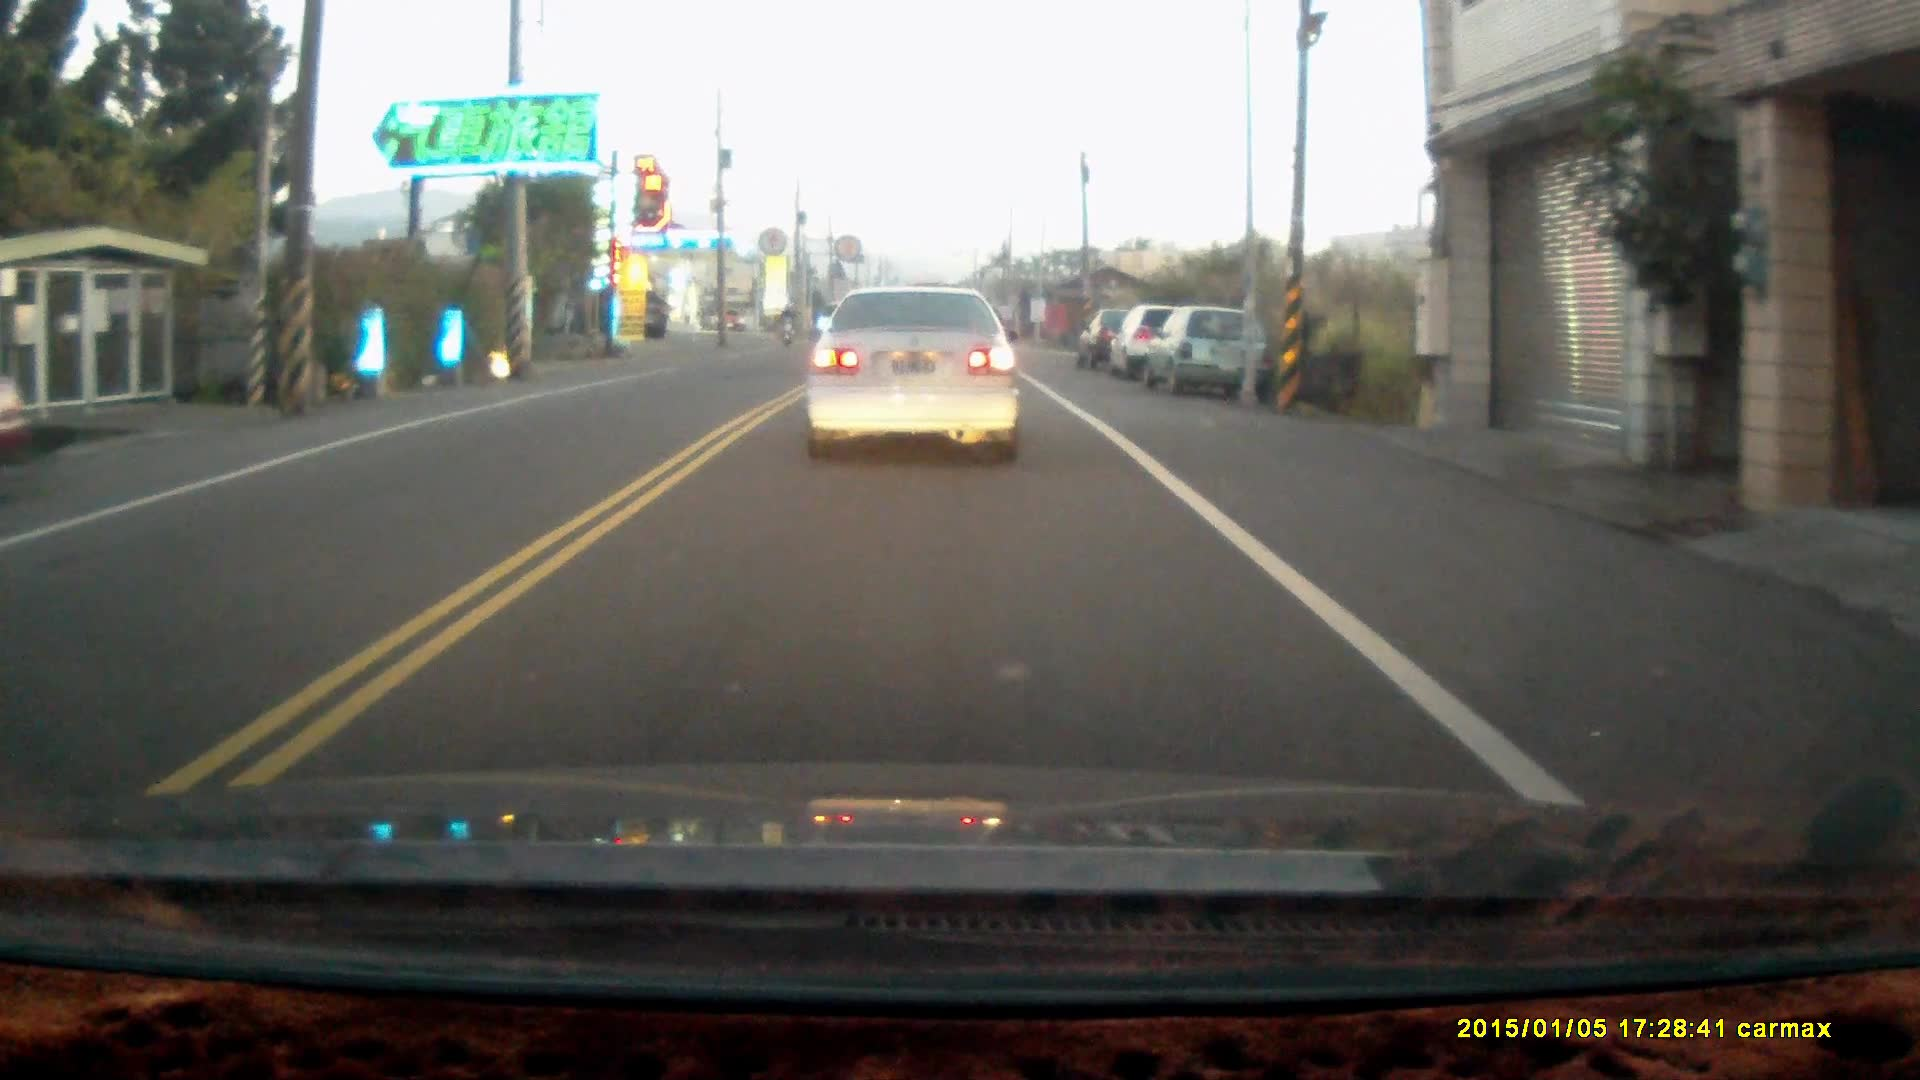vehicle: (804, 278, 1022, 463), (1151, 305, 1273, 405), (1117, 299, 1215, 375), (1075, 306, 1171, 375)
